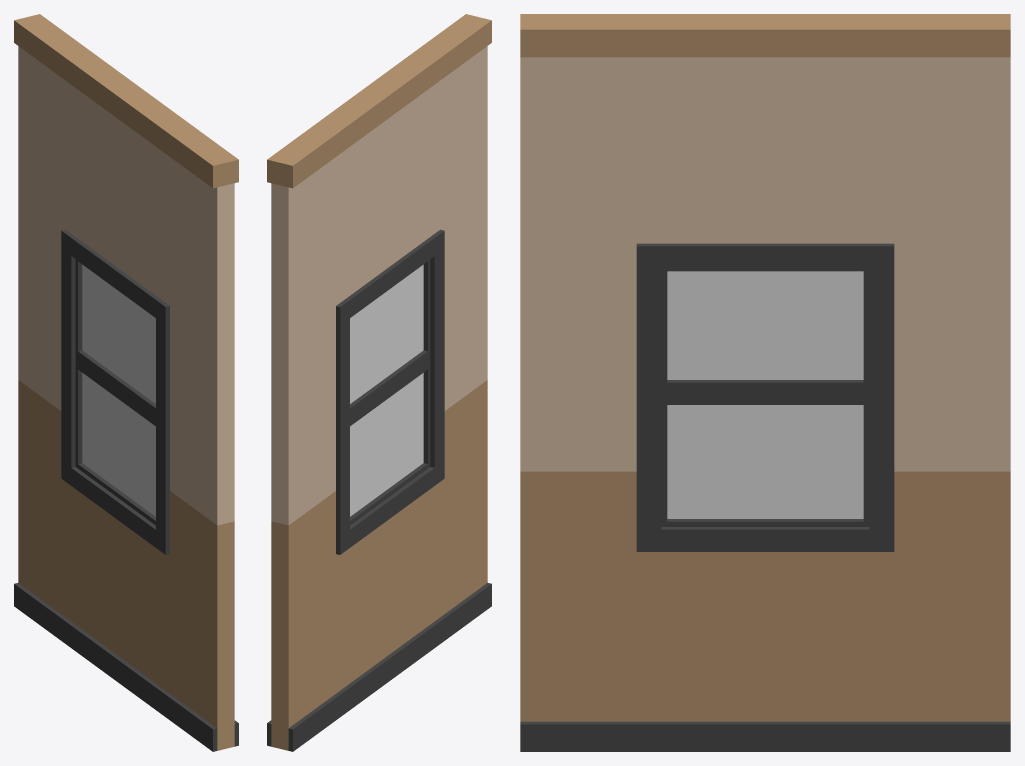
File: wall_02_M_window.glb
3 renders of one model, left to right at view 1: azimuth 30°, elevation 25°; view 2: azimuth 150°, elevation 25°; view 3: azimuth 270°, elevation 25°, orthographic. The views are drawn at different scales.
Visible parts, largest first — view 1: Untitled.001, Untitled; view 2: Untitled.001, Untitled; view 3: Untitled.001, Untitled.
Boxes of the visible parts, x1,y1,x2,y2 form: Untitled.001: [14, 14, 238, 751]; Untitled: [82, 264, 155, 516]; Untitled.001: [267, 14, 491, 751]; Untitled: [350, 264, 423, 516]; Untitled.001: [520, 14, 1010, 751]; Untitled: [667, 271, 863, 518].
Bounding box in the file's own units: 0.18 × 3.9 × 2.4.
2 materials, 2 textured.
